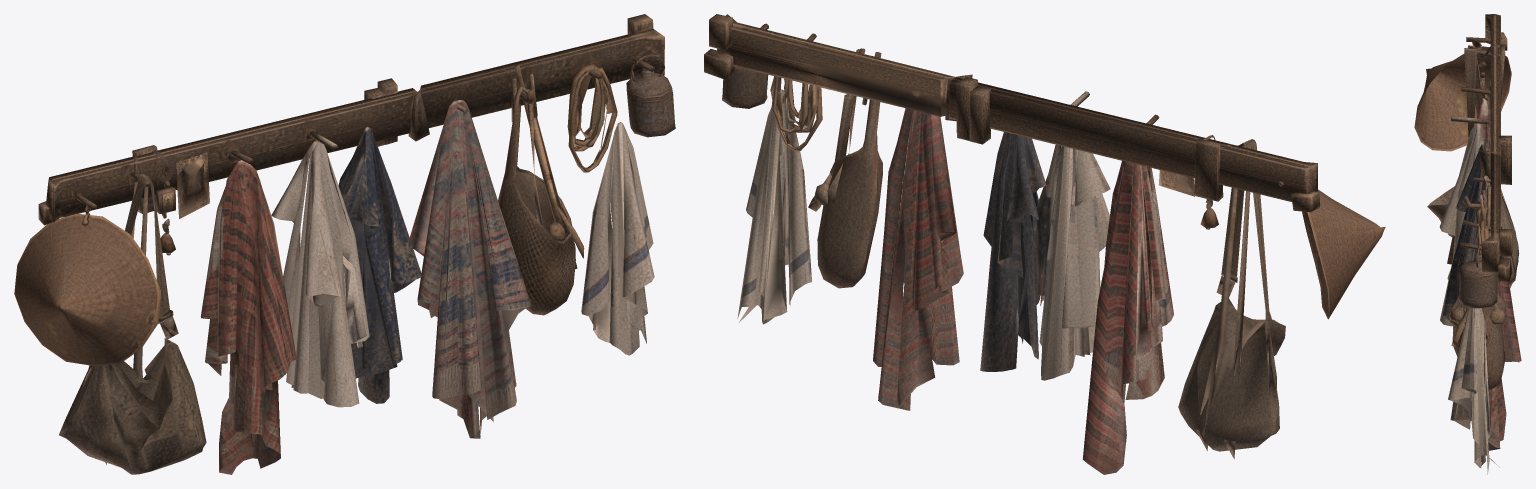
The model's file is Meshy_AI_Rustic_Hanging_Relics_20261029_texture.fbx.
3 views of the same model, side by side, from view 1: azimuth 30°, elevation 25°; view 2: azimuth 150°, elevation 25°; view 3: azimuth 270°, elevation 25° (orthographic). The views are drawn at different scales.
Parts seen in each view (by area): view 1: Mesh_0; view 2: Mesh_0; view 3: Mesh_0.
Boxes of the visible parts, box(x1,y1,x2,y2) form: Mesh_0: box(14, 14, 675, 474); Mesh_0: box(704, 14, 1385, 474); Mesh_0: box(1414, 14, 1521, 474).
Bounding box in the file's own units: 95.51 × 51.9 × 17.68.
1 material, 1 textured.
